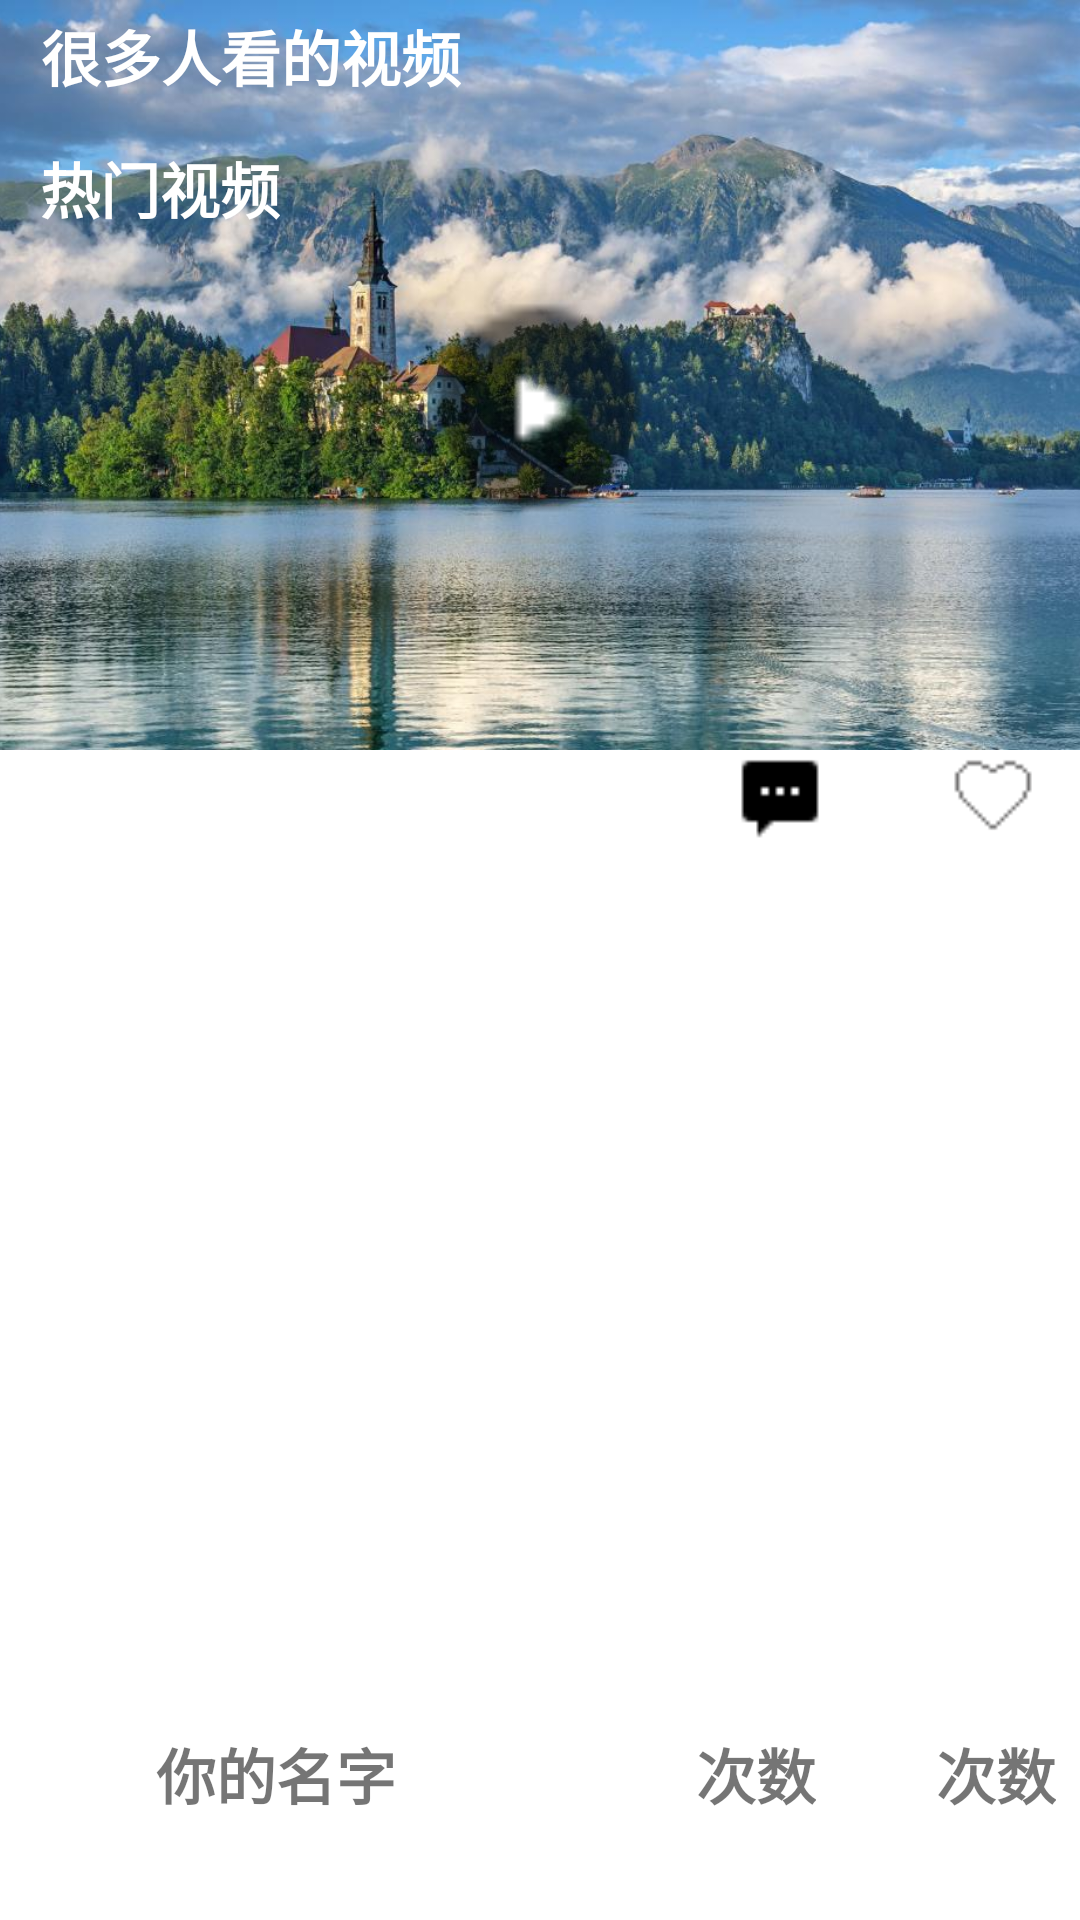

Named icons in this screenshot (1080x1920) and their centers, point (x, y):
collect: point (993, 795)
typing: point (780, 798)
